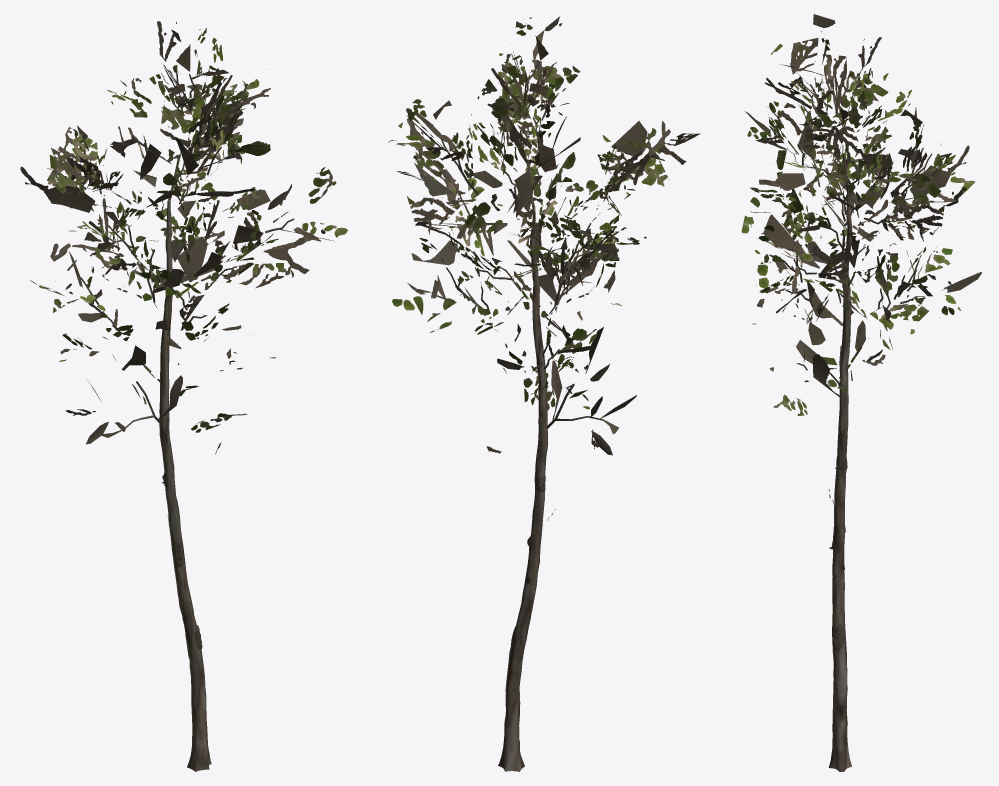
File: SM_BlackAlder_Forest_06_PP_LOD2.gltf
3 renders of one model, left to right at view 1: azimuth 30°, elevation 25°; view 2: azimuth 150°, elevation 25°; view 3: azimuth 270°, elevation 25°, orthographic. The views are drawn at different scales.
Visible parts, largest first — view 1: SM_BlackAlder_Forest_06_PP; view 2: SM_BlackAlder_Forest_06_PP; view 3: SM_BlackAlder_Forest_06_PP.
Boxes of the visible parts, x1,y1,x2,y2 form: SM_BlackAlder_Forest_06_PP: (20,21,347,771); SM_BlackAlder_Forest_06_PP: (388,16,700,771); SM_BlackAlder_Forest_06_PP: (741,14,981,771).
Size of the model in its own units: 3.58 by 8.88 by 2.72.
3 materials, 3 textured.
